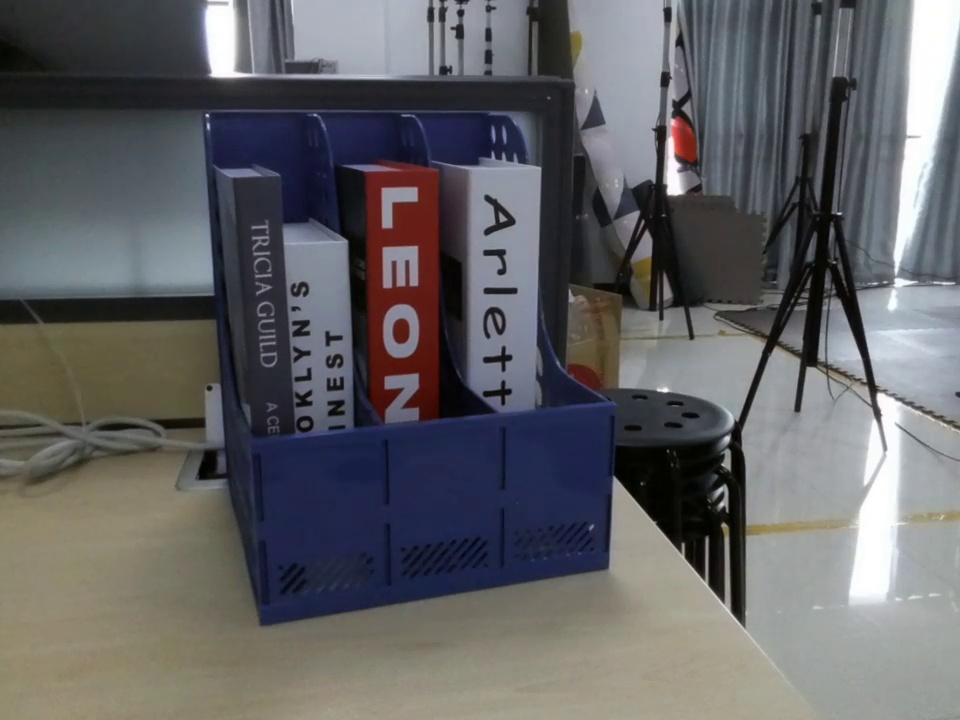files: (199, 108, 620, 629)
